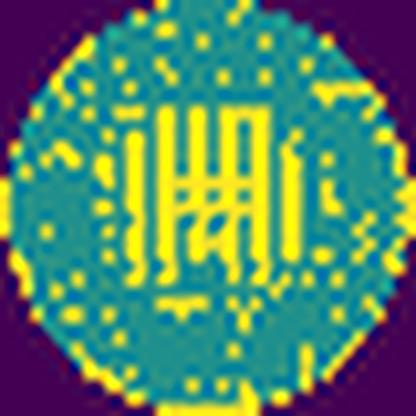Center: (125, 101, 305, 294)
